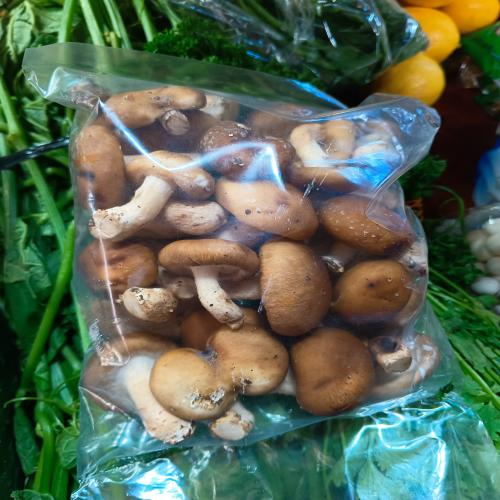Shiitake Mushroom: (86, 85, 431, 428)
